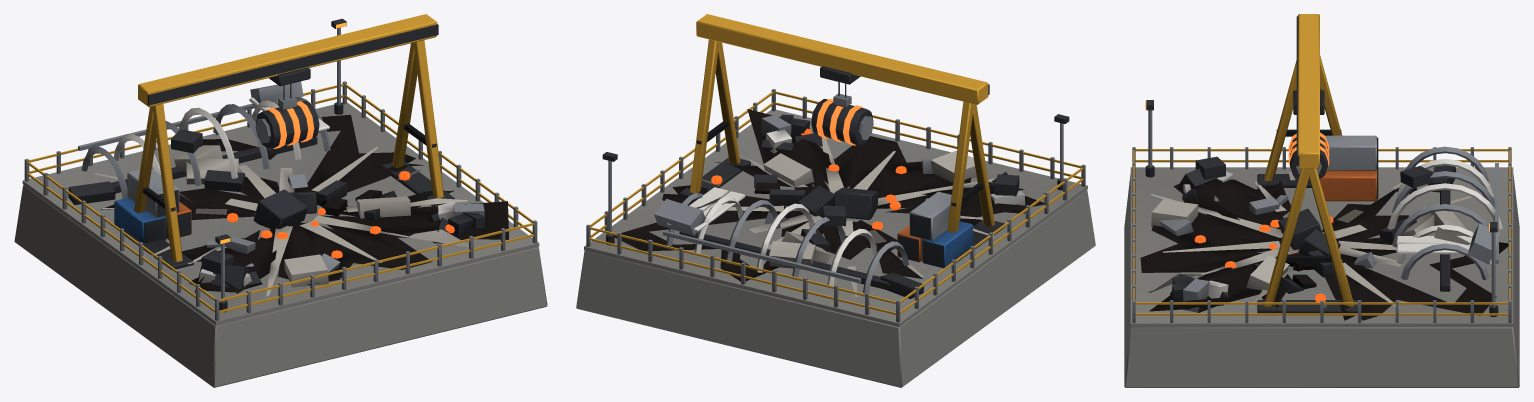
The model's file is salvage-yard-luna.glb.
3 renders of one model, left to right at view 1: azimuth 30°, elevation 25°; view 2: azimuth 150°, elevation 25°; view 3: azimuth 270°, elevation 25°, orthographic. The views are drawn at different scales.
Parts seen in each view (by area): view 1: site_salvage_yard_luna_body, site_salvage_yard_luna_ruin, site_salvage_yard_luna_core; view 2: site_salvage_yard_luna_body, site_salvage_yard_luna_ruin, site_salvage_yard_luna_core; view 3: site_salvage_yard_luna_body, site_salvage_yard_luna_ruin, site_salvage_yard_luna_core.
Boxes of the visible parts, x1=… form: site_salvage_yard_luna_body: x1=14, y1=14, x2=547, y2=387; site_salvage_yard_luna_ruin: x1=68, y1=81, x2=508, y2=296; site_salvage_yard_luna_core: x1=255, y1=101, x2=319, y2=149; site_salvage_yard_luna_body: x1=576, y1=14, x2=1095, y2=387; site_salvage_yard_luna_ruin: x1=614, y1=109, x2=1044, y2=298; site_salvage_yard_luna_core: x1=811, y1=99, x2=873, y2=145; site_salvage_yard_luna_body: x1=1124, y1=14, x2=1519, y2=387; site_salvage_yard_luna_ruin: x1=1140, y1=156, x2=1508, y2=325; site_salvage_yard_luna_core: x1=1288, y1=131, x2=1329, y2=181.
Bounding box in the file's own units: 5.9 × 3.82 × 6.1.
